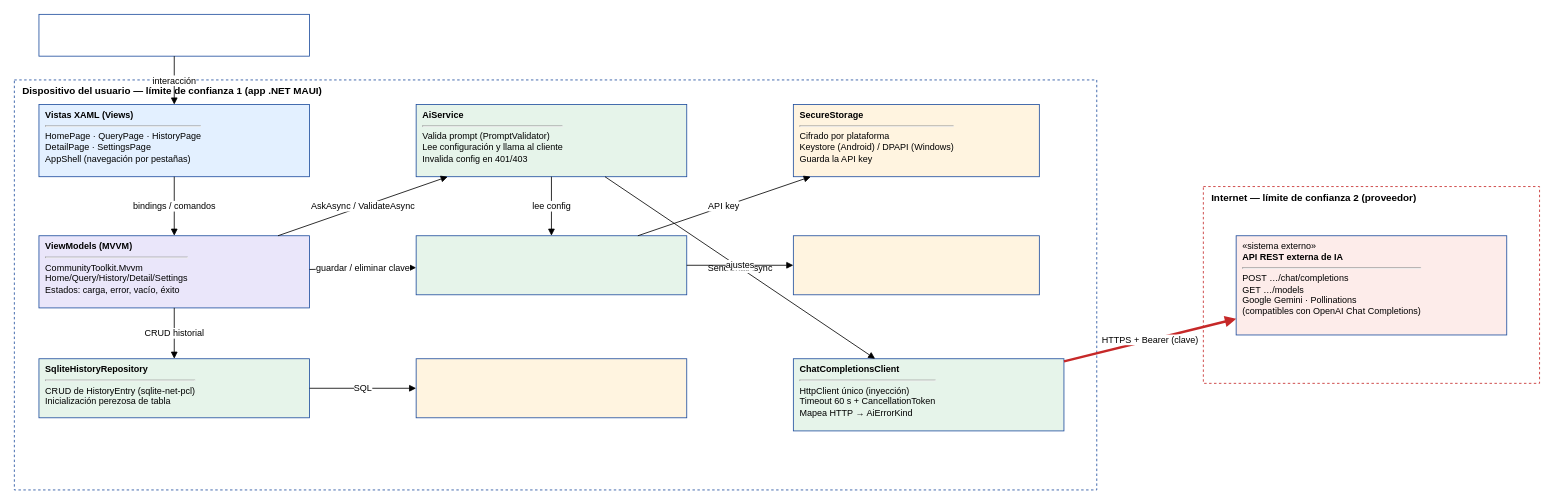
Some shapes in this 1554 by 504 pixel diagram are drawn without their labels. The shapes that lost their labels are listed below. From the top down, each one's centre as x and y in pixels, then its label:
the point at 174,35: «actor» Usuario
the point at 551,265: AiConfigService Proveedor, modelo, estado validado Clave solo vía ISecretStore
the point at 916,265: Preferences Proveedor, modelo, validado Sin secretos
the point at 551,388: SQLite asistenteia.db3 Tabla HistoryEntry AppDataDirectory de la app
